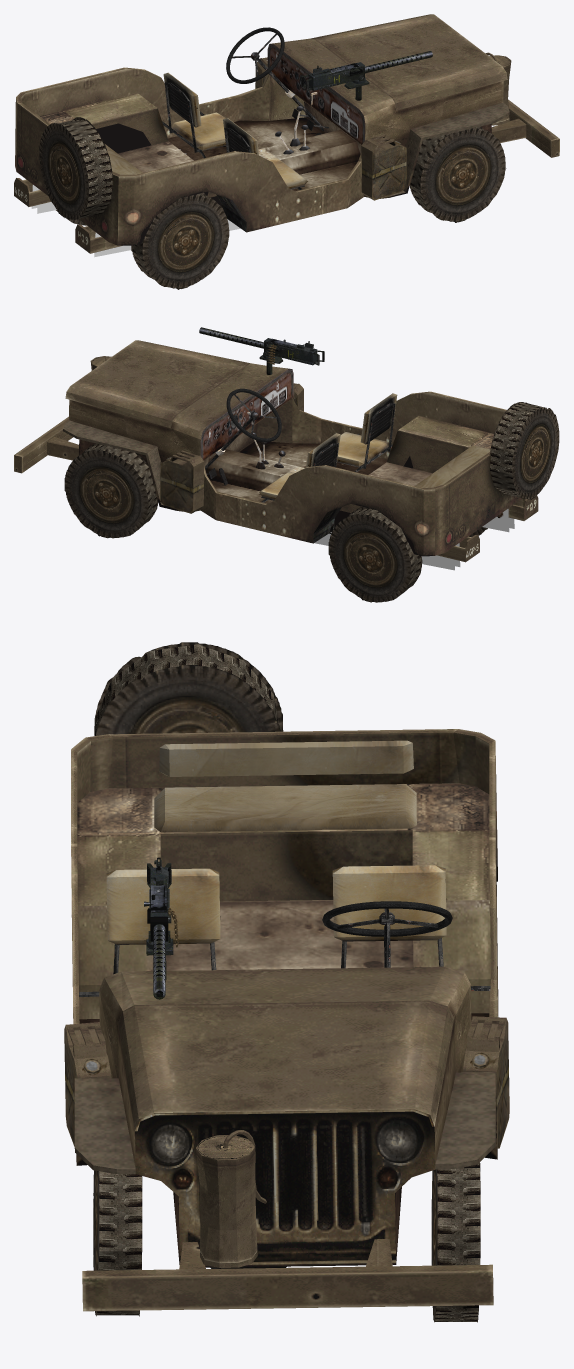
The model's file is Jeep.fbx.
3 views of the same model, one above another, from view 1: azimuth 30°, elevation 25°; view 2: azimuth 150°, elevation 25°; view 3: azimuth 270°, elevation 25° (orthographic). The views are drawn at different scales.
Parts seen in each view (by area): view 1: telo, BODY, WHR00, WHR01, kolo, Line44, kanyst13, Line43, Box02, BARREL01_00, Loft12, SWHEEL (+1 smaller); view 2: telo, BODY, WHL00, WHL01, kolo, Loft12, kanyst12, Line40, Box02, BARREL01_00, Line44, SWHEEL (+1 smaller); view 3: telo, BODY, Box02, kolo, Kondenz00, Loft12, Line44, WHL00, WHR00, Line43, Line40, kanyst12 (+3 smaller).
Boxes of the visible parts, x1,y1,x2,y2 form: telo: [15, 38, 503, 245]; BODY: [14, 14, 507, 257]; WHR00: [410, 126, 506, 222]; WHR01: [131, 192, 229, 289]; kolo: [39, 117, 113, 219]; Line44: [162, 72, 225, 158]; kanyst13: [361, 134, 406, 200]; Line43: [364, 102, 509, 198]; Box02: [491, 99, 559, 157]; BARREL01_00: [301, 51, 432, 90]; Loft12: [223, 118, 307, 189]; SWHEEL: [226, 27, 324, 131]; telo: [69, 363, 521, 556]; BODY: [65, 340, 538, 562]; WHL00: [64, 443, 158, 538]; WHL01: [328, 507, 422, 602]; kolo: [489, 402, 559, 499]; Loft12: [337, 393, 397, 472]; kanyst12: [160, 450, 203, 513]; Line40: [63, 420, 200, 511]; Box02: [14, 416, 78, 473]; BARREL01_00: [199, 327, 324, 365]; Line44: [259, 433, 340, 502]; SWHEEL: [204, 388, 281, 469]; telo: [71, 729, 498, 1268]; BODY: [118, 1000, 454, 1131]; Box02: [82, 1239, 493, 1311]; kolo: [94, 642, 283, 735]; Kondenz00: [196, 1130, 266, 1267]; Loft12: [79, 868, 220, 996]; Line44: [332, 865, 490, 990]; WHL00: [431, 1162, 480, 1322]; WHR00: [93, 1170, 142, 1316]; Line43: [74, 1078, 135, 1174]; Line40: [435, 1072, 497, 1169]; kanyst12: [463, 1016, 509, 1148].
Size of the model in its own units: 359 by 130 by 155.
